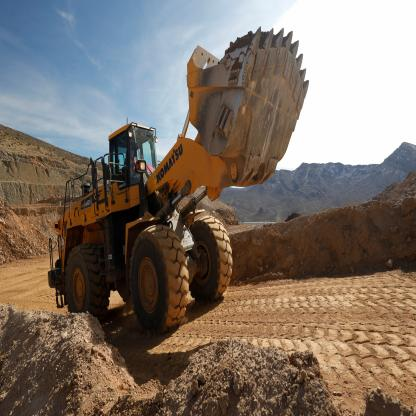bull_dozer/loader/grader: (49, 16, 312, 337)
